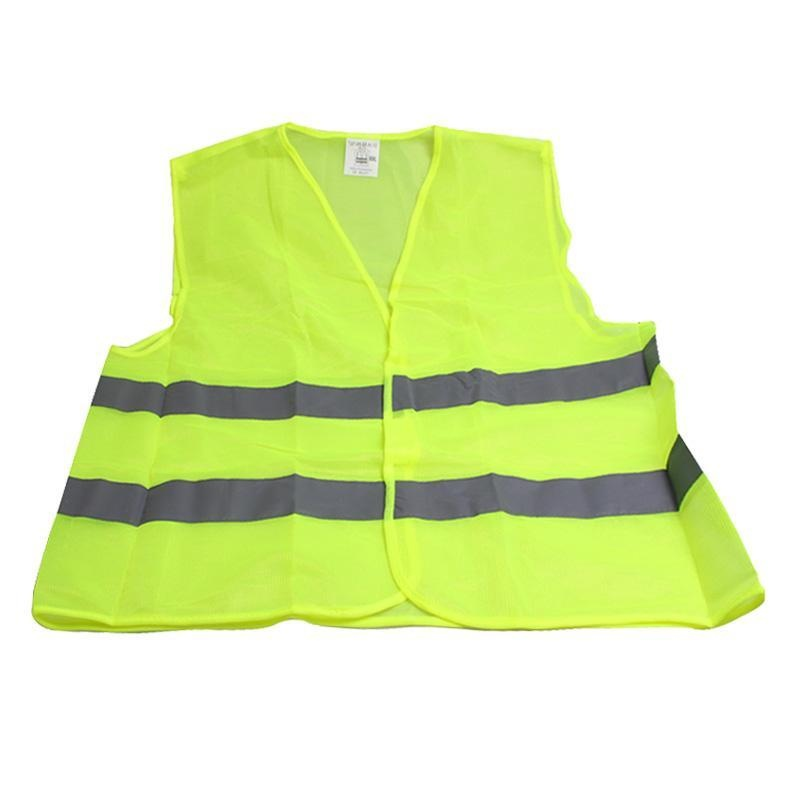safety vest: (65, 110, 735, 634)
